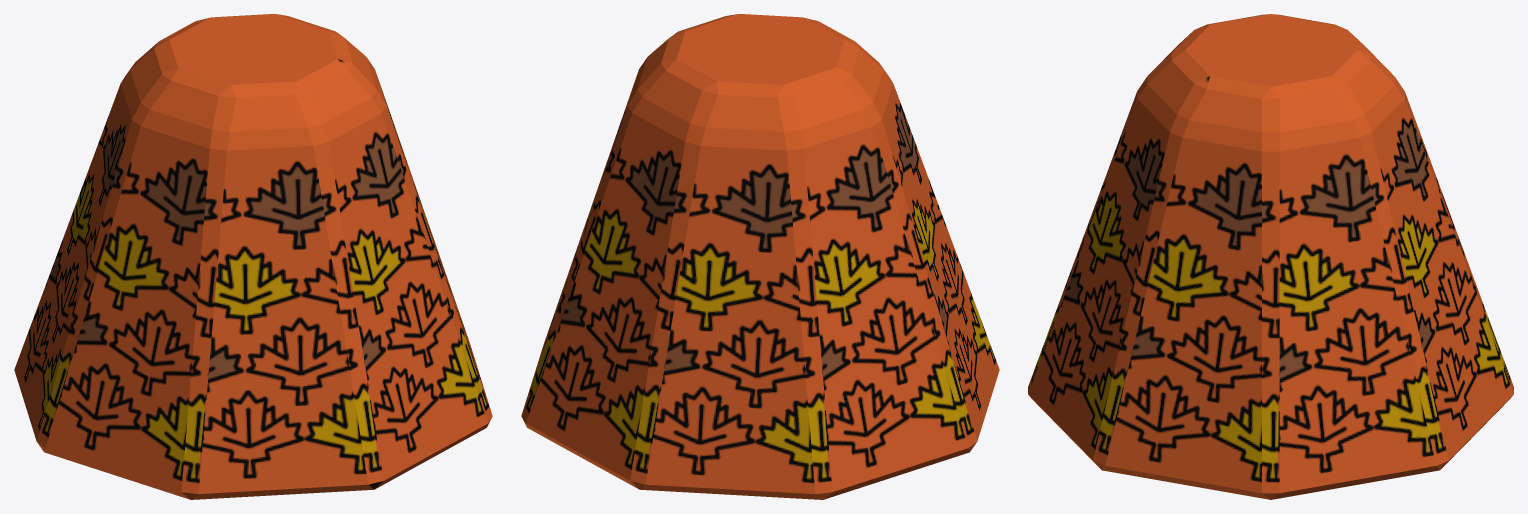
File: map.fbx
The picture shows the model from 3 angles, left to right: view 1: azimuth 30°, elevation 25°; view 2: azimuth 150°, elevation 25°; view 3: azimuth 270°, elevation 25°; orthographic projection.
Parts seen in each view (by area): view 1: Cylinder; view 2: Cylinder; view 3: Cylinder.
Part boxes in pixels (x1,y1,x2,y2): Cylinder: (14, 14, 492, 499); Cylinder: (521, 14, 999, 499); Cylinder: (1028, 14, 1513, 499).
Bounding box in the file's own units: 253 × 200 × 253.
